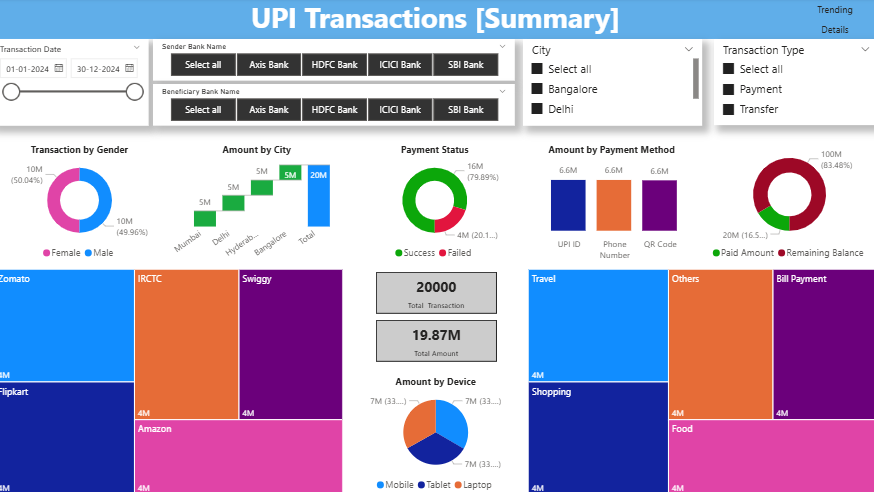

The dashboard page shown, as its layout file describes it:
{"tool":"powerbi","page":{"name":"Summary","canvas":[1280,720],"ordinal":2},"visuals":[{"type":"slicer","fields":{"Values":["UPI_TRANSACTIONS.TransactionDate"]},"box":[0,58.7,227.4,124.7],"z":0},{"type":"textbox","title":"UPI Transactions [Summary]","box":[0,0,1280.3,58.7],"z":1000},{"type":"slicer","fields":{"Values":["UPI_TRANSACTIONS.BankNameSent"]},"box":[233.6,58.7,520.9,59.9],"z":2000},{"type":"slicer","fields":{"Values":["UPI_TRANSACTIONS.BankNameReceived"]},"box":[233.6,123.5,520.9,59.9],"z":3000},{"type":"slicer","fields":{"Values":["UPI_TRANSACTIONS.City"]},"box":[766.7,58.7,258,124.7],"z":4000},{"type":"slicer","fields":{"Values":["UPI_TRANSACTIONS.TransactionType"]},"box":[1040.6,58.7,237.2,123.5],"z":5000},{"type":"card","fields":{"Values":["CountNonNull(UPI_TRANSACTIONS.TransactionID)"]},"box":[553.9,395,173.6,59.9],"z":6000},{"type":"card","fields":{"Values":["Sum(UPI_TRANSACTIONS.Amount)"]},"box":[553.9,463.5,173.6,59.9],"z":7000},{"type":"donutChart","title":"Transaction by Gender","fields":{"Y":["Sum(UPI_TRANSACTIONS.Amount)"],"Category":["UPI_TRANSACTIONS.Gender"]},"box":[0,209.1,255,177.3],"z":8000},{"type":"donutChart","fields":{"Y":["Sum(UPI_TRANSACTIONS.Amount)","Sum(UPI_TRANSACTIONS.RemainingBalance)"]},"box":[1022.3,209.1,255,177.3],"z":9000},{"type":"donutChart","title":"Payment Status","fields":{"Y":["Sum(UPI_TRANSACTIONS.Amount)"],"Category":["UPI_TRANSACTIONS.Status"]},"box":[511.1,209.1,255.6,177.3],"z":10000},{"type":"waterfallChart","fields":{"Y":["Sum(UPI_TRANSACTIONS.Amount)"],"Category":["UPI_TRANSACTIONS.City"]},"box":[255.6,209.1,255.6,177.3],"z":11000},{"type":"clusteredColumnChart","title":"Amount by Payment Method","fields":{"Category":["UPI_TRANSACTIONS.PaymentMethod"],"Y":["Sum(UPI_TRANSACTIONS.Amount)"]},"box":[766.7,209.1,255.6,177.3],"z":12000},{"type":"pieChart","title":"Amount by Device","fields":{"Category":["UPI_TRANSACTIONS.DeviceType"],"Y":["Sum(UPI_TRANSACTIONS.Amount)"]},"box":[512.4,542.9,255.6,177.3],"z":13000},{"type":"treemap","fields":{"Values":["Sum(UPI_TRANSACTIONS.Amount)"],"Group":["UPI_TRANSACTIONS.MerchantName"]},"box":[0,386.4,511.1,333.8],"z":14000},{"type":"treemap","fields":{"Values":["Sum(UPI_TRANSACTIONS.Amount)"],"Group":["UPI_TRANSACTIONS.Purpose"]},"box":[769.2,386.4,511.1,333.8],"z":15000},{"type":"actionButton","box":[1150.7,0,129.6,30.6],"z":16000},{"type":"actionButton","box":[1150.7,28.1,129.6,30.6],"z":17000}]}

Visuals, with their boxes in screenshot pixels (x1, y1, x2, y2), scaled from the page's 1280x720 canvas onto the 874x492 screenshot:
slicer - UPI_TRANSACTIONS.TransactionDate: detection(0, 40, 155, 125)
"UPI Transactions [Summary]" textbox: detection(0, 0, 873, 40)
slicer - UPI_TRANSACTIONS.BankNameSent: detection(160, 40, 515, 81)
slicer - UPI_TRANSACTIONS.BankNameReceived: detection(160, 84, 515, 125)
slicer - UPI_TRANSACTIONS.City: detection(524, 40, 700, 125)
slicer - UPI_TRANSACTIONS.TransactionType: detection(711, 40, 872, 125)
card - CountNonNull(UPI_TRANSACTIONS.TransactionID): detection(378, 270, 497, 311)
card - Sum(UPI_TRANSACTIONS.Amount): detection(378, 317, 497, 358)
"Transaction by Gender" donutChart: detection(0, 143, 174, 264)
donutChart - Sum(UPI_TRANSACTIONS.Amount) x Sum(UPI_TRANSACTIONS.RemainingBalance): detection(698, 143, 872, 264)
"Payment Status" donutChart: detection(349, 143, 524, 264)
waterfallChart - Sum(UPI_TRANSACTIONS.Amount) x UPI_TRANSACTIONS.City: detection(175, 143, 349, 264)
"Amount by Payment Method" clusteredColumnChart: detection(524, 143, 698, 264)
"Amount by Device" pieChart: detection(350, 371, 524, 491)
treemap - Sum(UPI_TRANSACTIONS.Amount) x UPI_TRANSACTIONS.MerchantName: detection(0, 264, 349, 491)
treemap - Sum(UPI_TRANSACTIONS.Amount) x UPI_TRANSACTIONS.Purpose: detection(525, 264, 873, 491)
actionButton: detection(786, 0, 873, 21)
actionButton: detection(786, 19, 873, 40)
